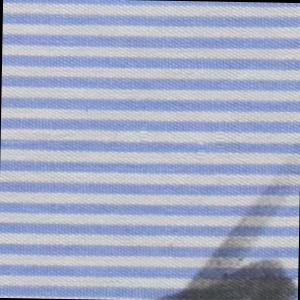Stain: (152, 160, 300, 300)
